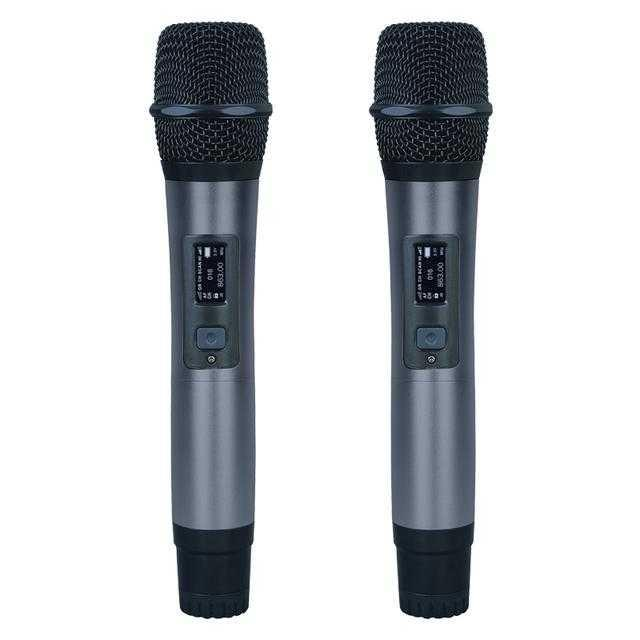microphone: (373, 22, 493, 614), (152, 23, 272, 609)
